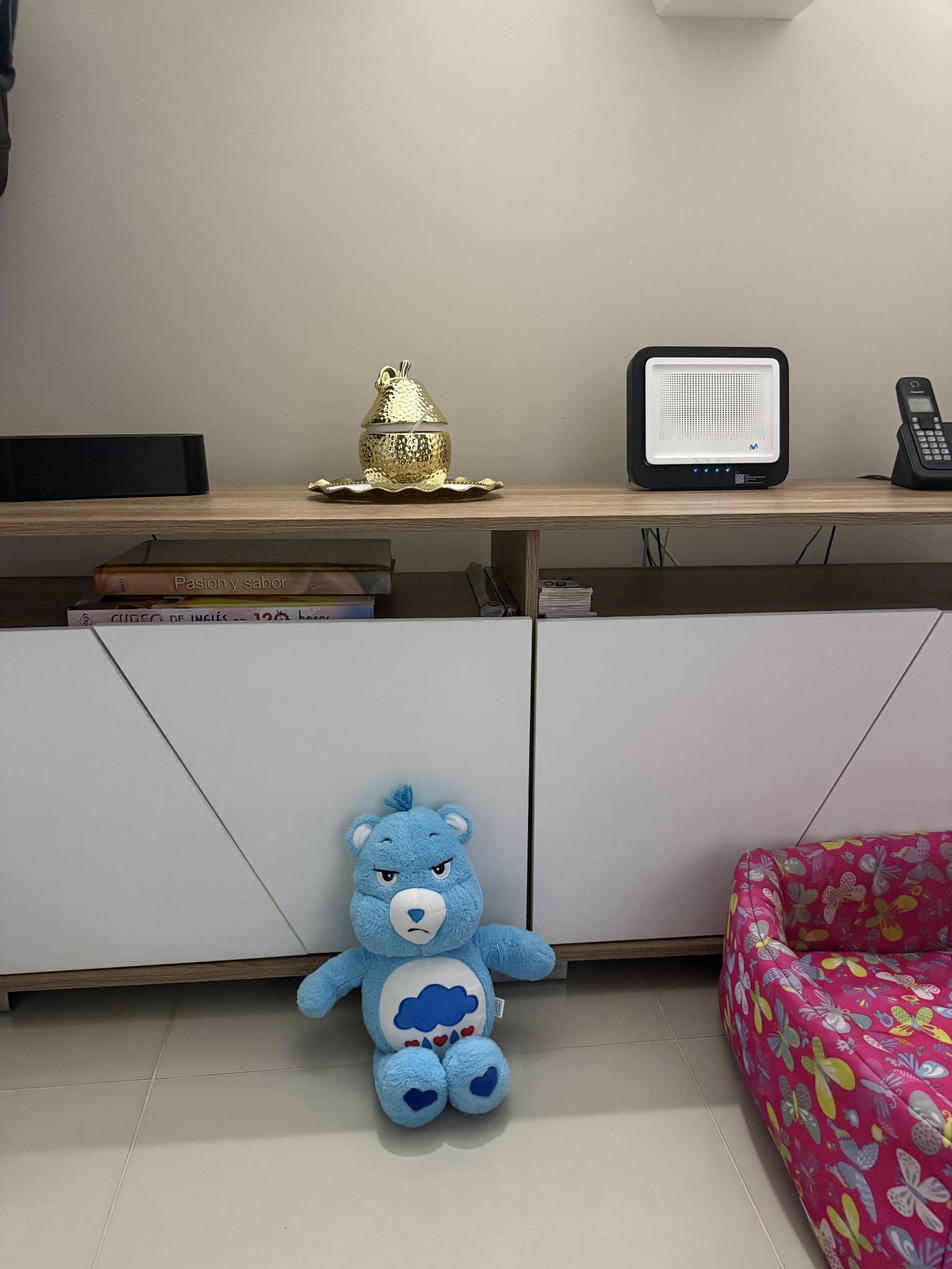peluche_Juan Jose: (291, 786, 567, 1133)
